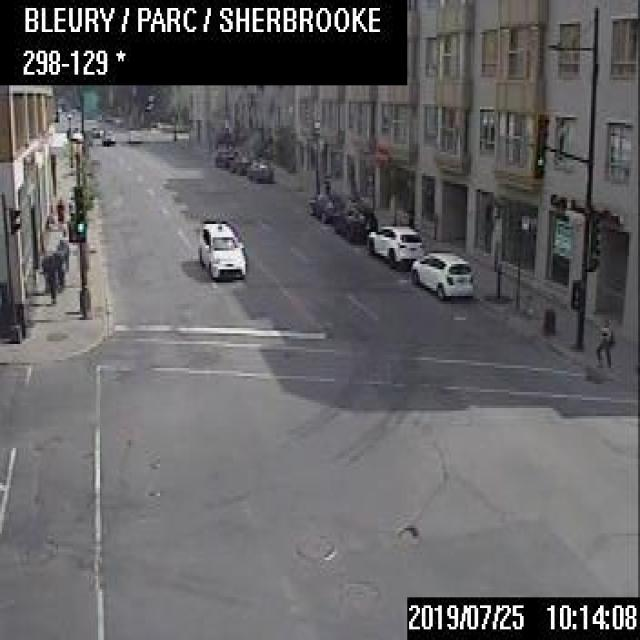pedestrian: (592, 314, 614, 368), (46, 256, 57, 301), (55, 192, 63, 227)
vehicle: (409, 250, 472, 297), (196, 216, 244, 275), (365, 223, 421, 266), (332, 199, 376, 240), (306, 190, 342, 220), (246, 156, 274, 182), (227, 150, 250, 171), (213, 146, 236, 166), (100, 128, 114, 144)
